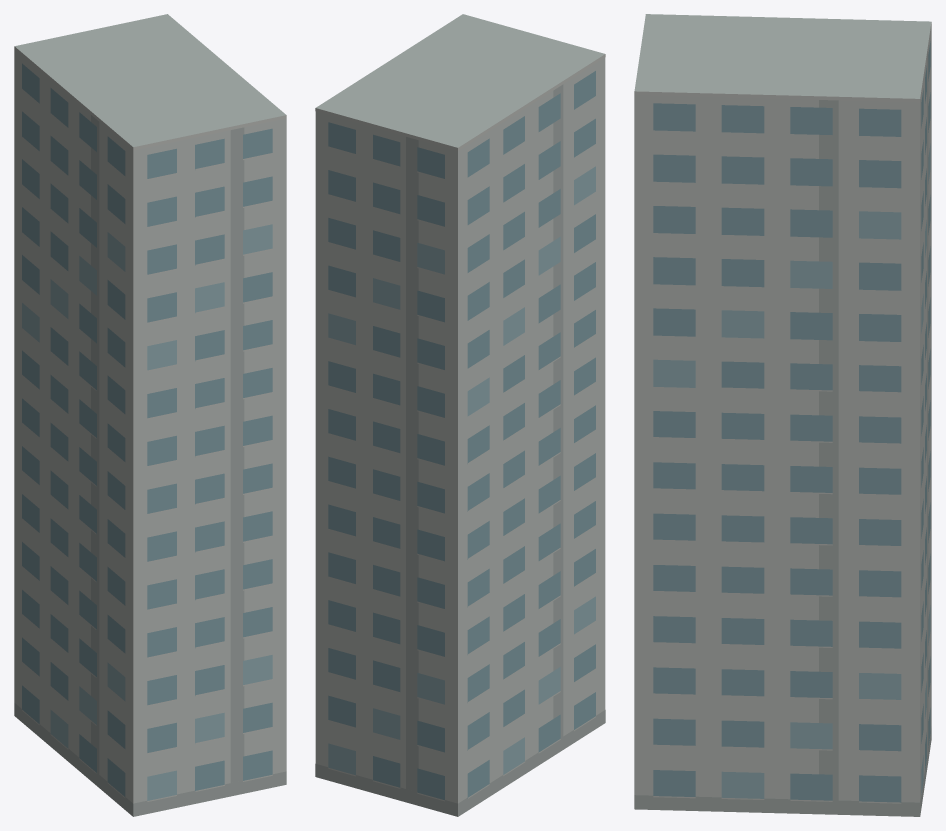
File: residential-f06980ea-94e6-4ca1-817f-2ff79ddb9cdf.glb
3 views of the same model, side by side, from view 1: azimuth 30°, elevation 25°; view 2: azimuth 150°, elevation 25°; view 3: azimuth 270°, elevation 25° (orthographic). The views are drawn at different scales.
Visible parts, largest first — view 1: residential-f06980ea-94e6-4ca1-817f-2ff79ddb9cdf.tmp; view 2: residential-f06980ea-94e6-4ca1-817f-2ff79ddb9cdf.tmp; view 3: residential-f06980ea-94e6-4ca1-817f-2ff79ddb9cdf.tmp.
Part boxes in pixels (left/top/right/bottom): residential-f06980ea-94e6-4ca1-817f-2ff79ddb9cdf.tmp: left=14, top=14, right=286, bottom=816; residential-f06980ea-94e6-4ca1-817f-2ff79ddb9cdf.tmp: left=315, top=14, right=605, bottom=816; residential-f06980ea-94e6-4ca1-817f-2ff79ddb9cdf.tmp: left=634, top=14, right=931, bottom=816.
Bounding box in the file's own units: 12.19 × 48 × 18.01.
